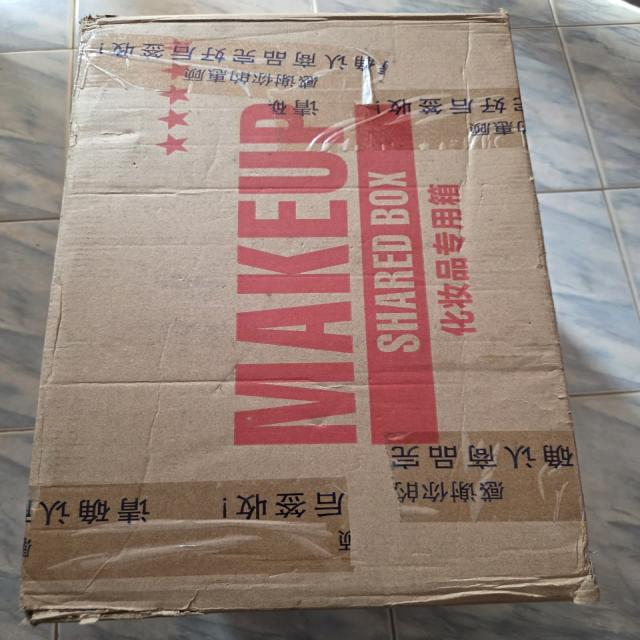carton_box: (13, 6, 628, 632)
package_damage: (5, 575, 225, 635)
